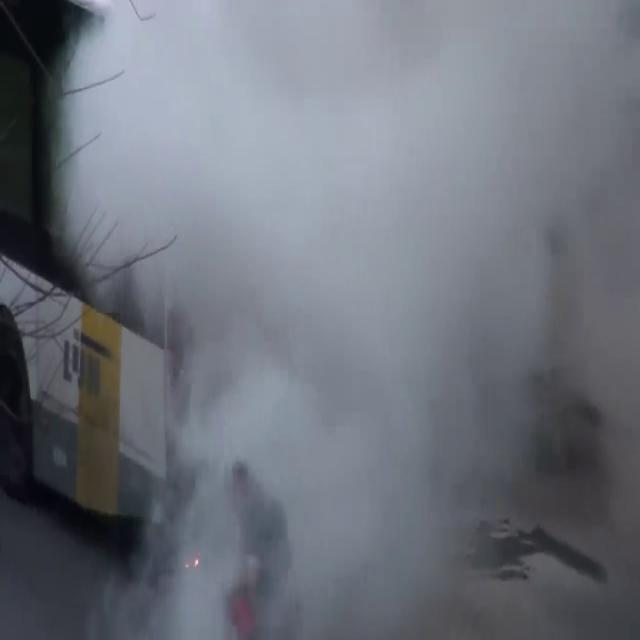Smoke: (52, 1, 640, 634)
